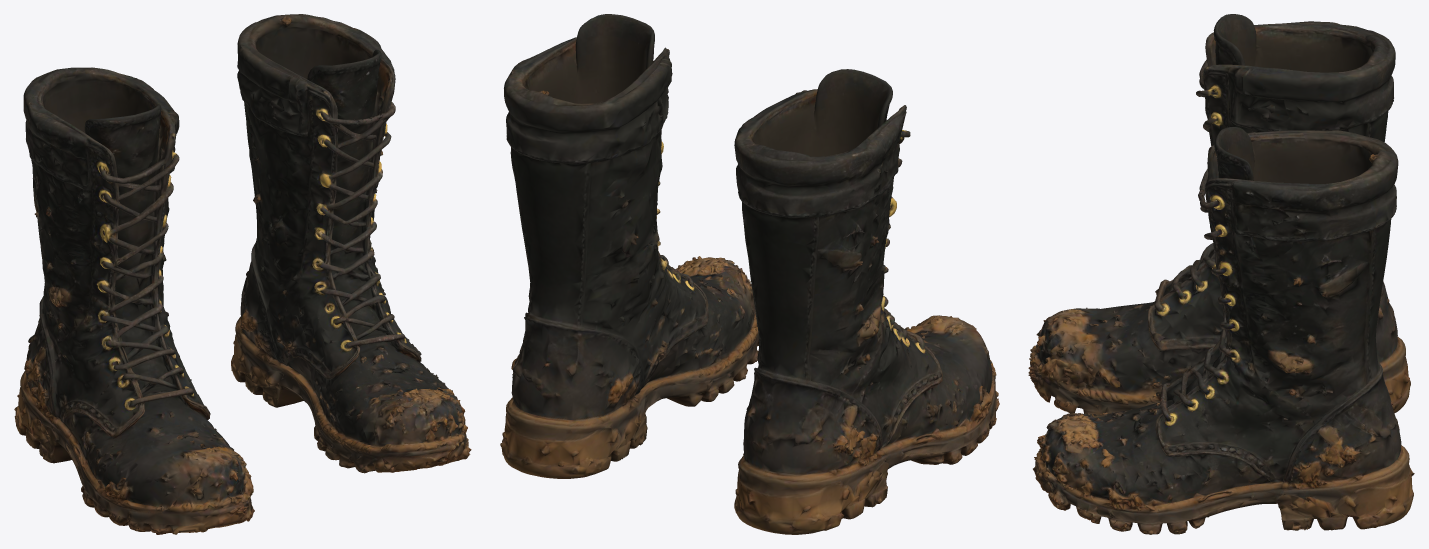
File: boots.glb
The picture shows the model from 3 angles, left to right: view 1: azimuth 30°, elevation 25°; view 2: azimuth 150°, elevation 25°; view 3: azimuth 270°, elevation 25°; orthographic projection. The views are drawn at different scales.
Visible parts, largest first — view 1: tripo_node_cba0154a-895b-45ef-a3d8-d18af745ffc5; view 2: tripo_node_cba0154a-895b-45ef-a3d8-d18af745ffc5; view 3: tripo_node_cba0154a-895b-45ef-a3d8-d18af745ffc5.
Part boxes in pixels (x1=…): tripo_node_cba0154a-895b-45ef-a3d8-d18af745ffc5: x1=14, y1=14, x2=471, y2=534; tripo_node_cba0154a-895b-45ef-a3d8-d18af745ffc5: x1=500, y1=14, x2=999, y2=534; tripo_node_cba0154a-895b-45ef-a3d8-d18af745ffc5: x1=1028, y1=14, x2=1414, y2=534.
Size of the model in its own units: 0.9998 by 0.9974 by 0.9231.
1 material, 1 textured.
